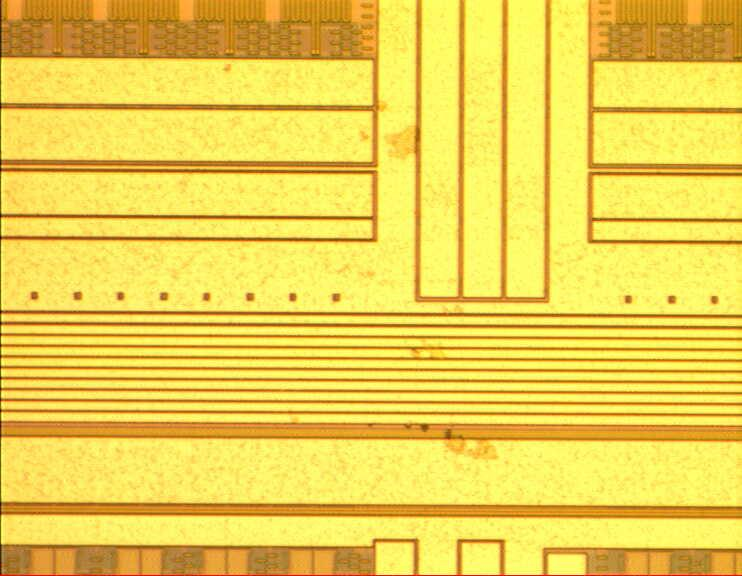PO CONTAMINATION: (220, 60, 503, 467)
